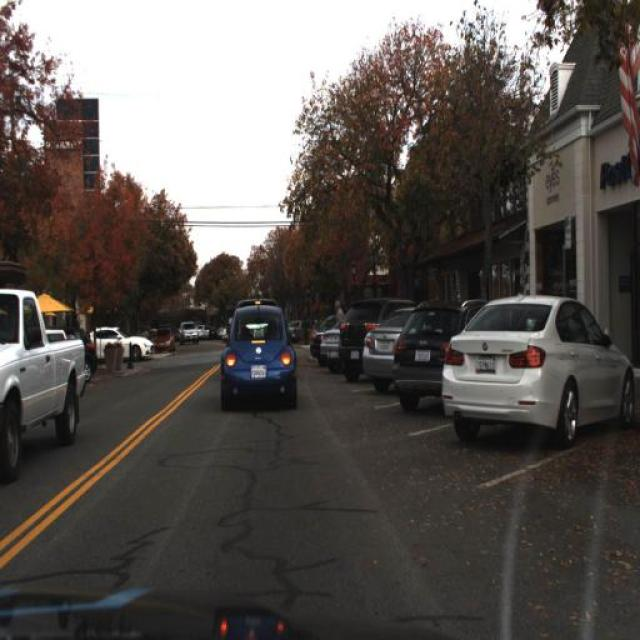car: (440, 293, 634, 438), (0, 287, 86, 493), (389, 292, 493, 414), (391, 296, 471, 412), (218, 300, 300, 410), (361, 301, 413, 394), (89, 322, 156, 366), (316, 327, 350, 362), (175, 318, 201, 350)
